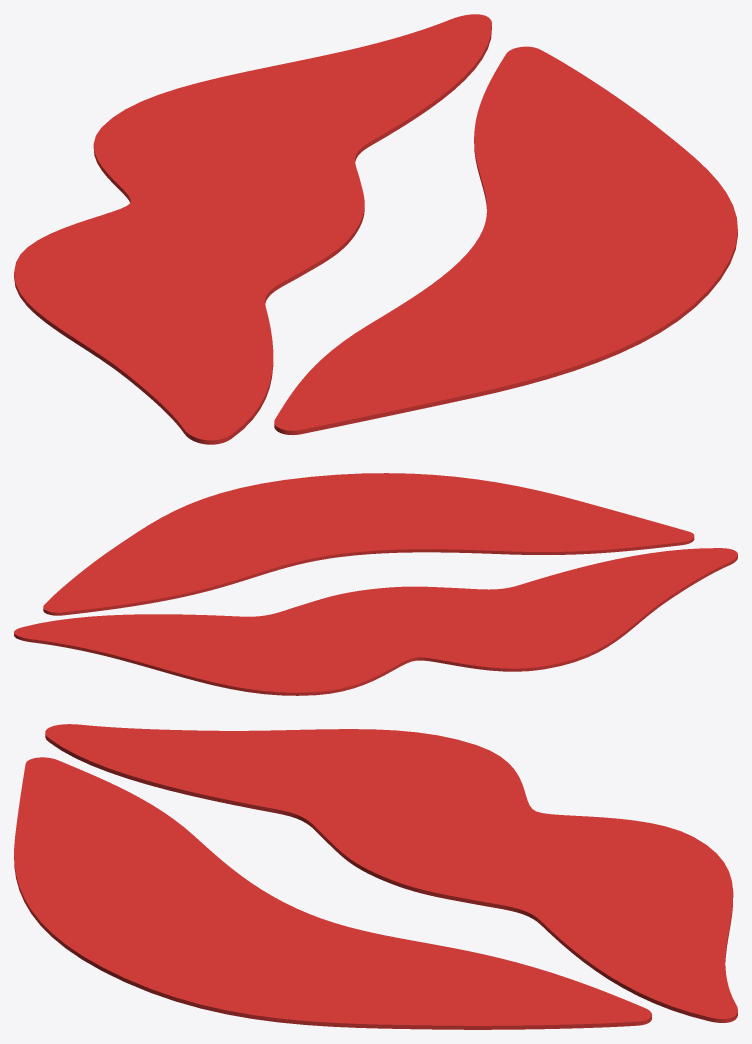
The model's file is emoji_u1f48b.glb.
3 views of the same model, one above another, from view 1: azimuth 30°, elevation 25°; view 2: azimuth 150°, elevation 25°; view 3: azimuth 270°, elevation 25° (orthographic). The views are drawn at different scales.
Parts seen in each view (by area): view 1: emoji_u1f48b; view 2: emoji_u1f48b; view 3: emoji_u1f48b.
Part boxes in pixels (x1,y1,x2,y2): emoji_u1f48b: [14, 14, 737, 444]; emoji_u1f48b: [14, 473, 737, 695]; emoji_u1f48b: [14, 724, 737, 1029].
Size of the model in its own units: 0.0324 by 0.0002 by 0.0328.
